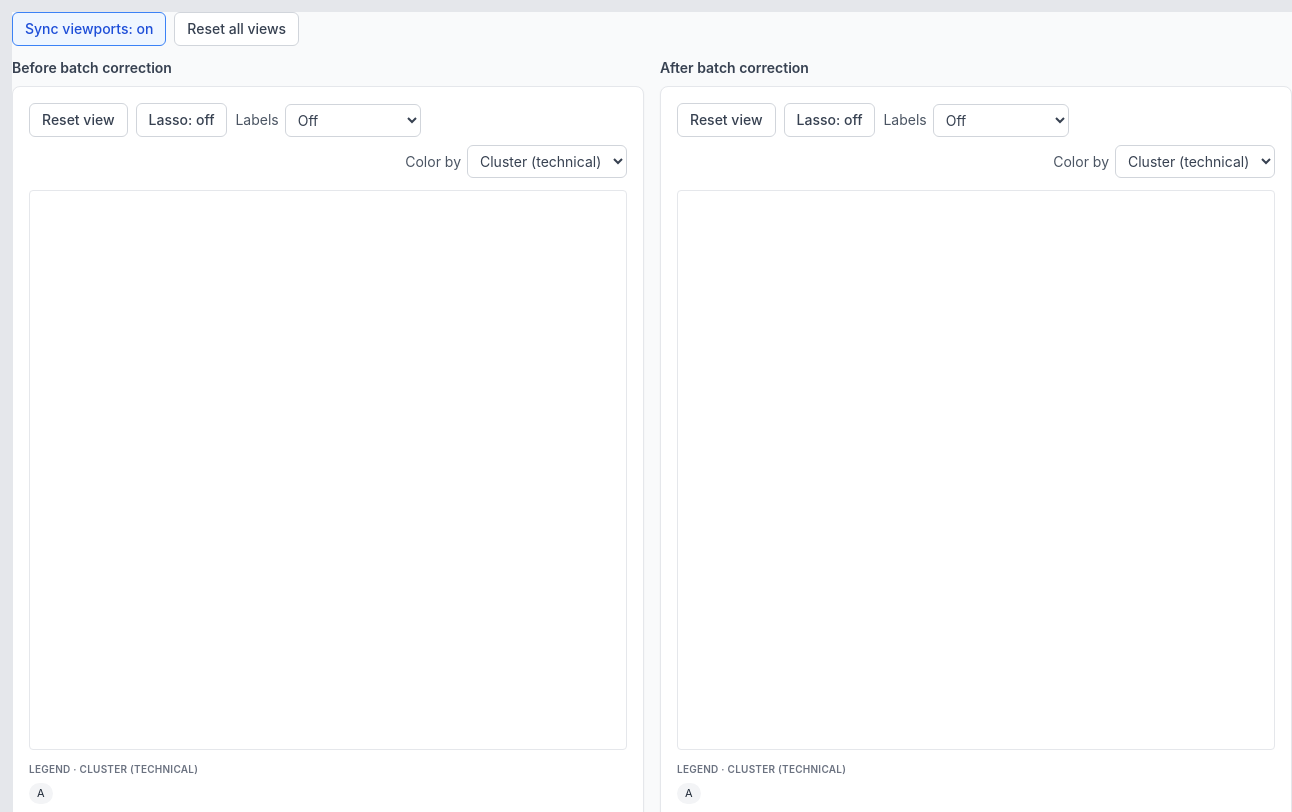
Test case: EmbeddingComparison › toggling sync changes the button label
Click the button "Sync viewports: on" at [89, 29], box [12,12,166,46]
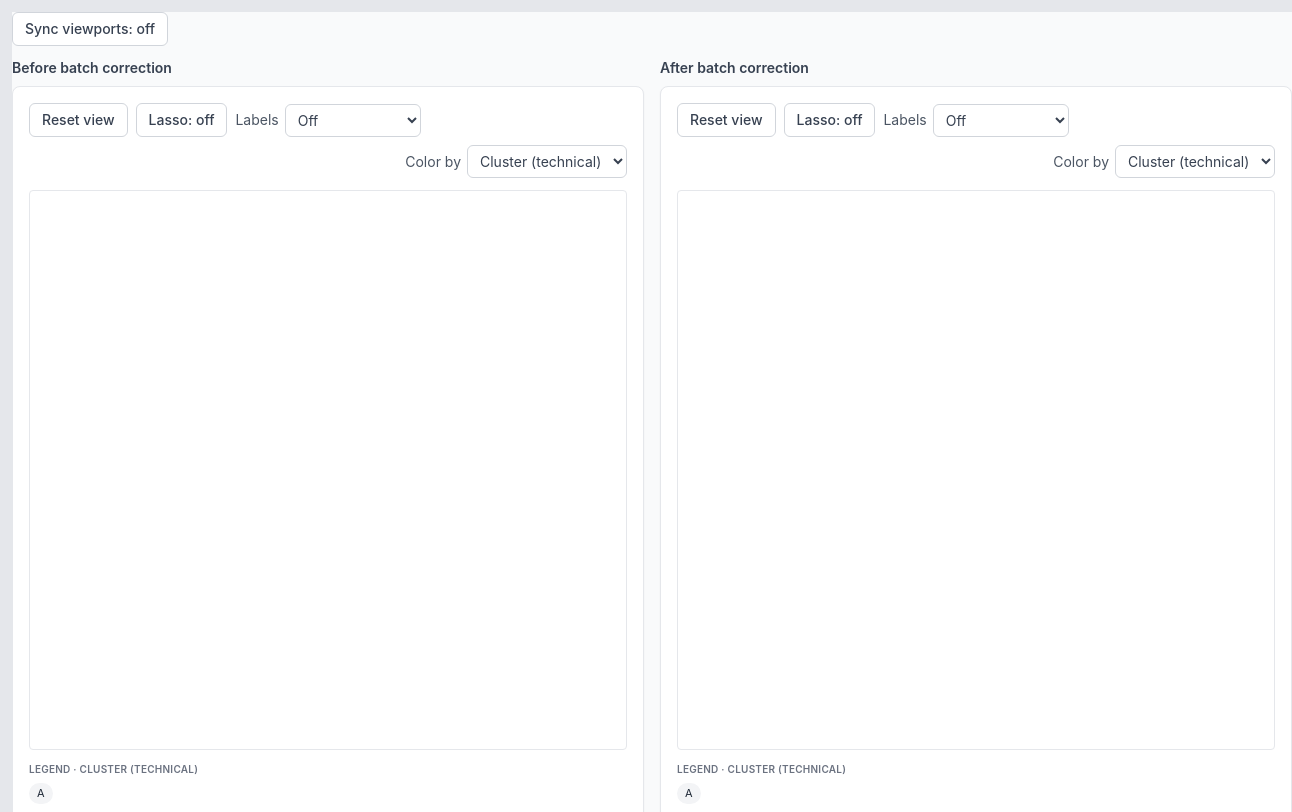
Expected: the button "Sync viewports: off" is shown
Click the button "Sync viewports: off" at [90, 29], box [12,12,168,46]
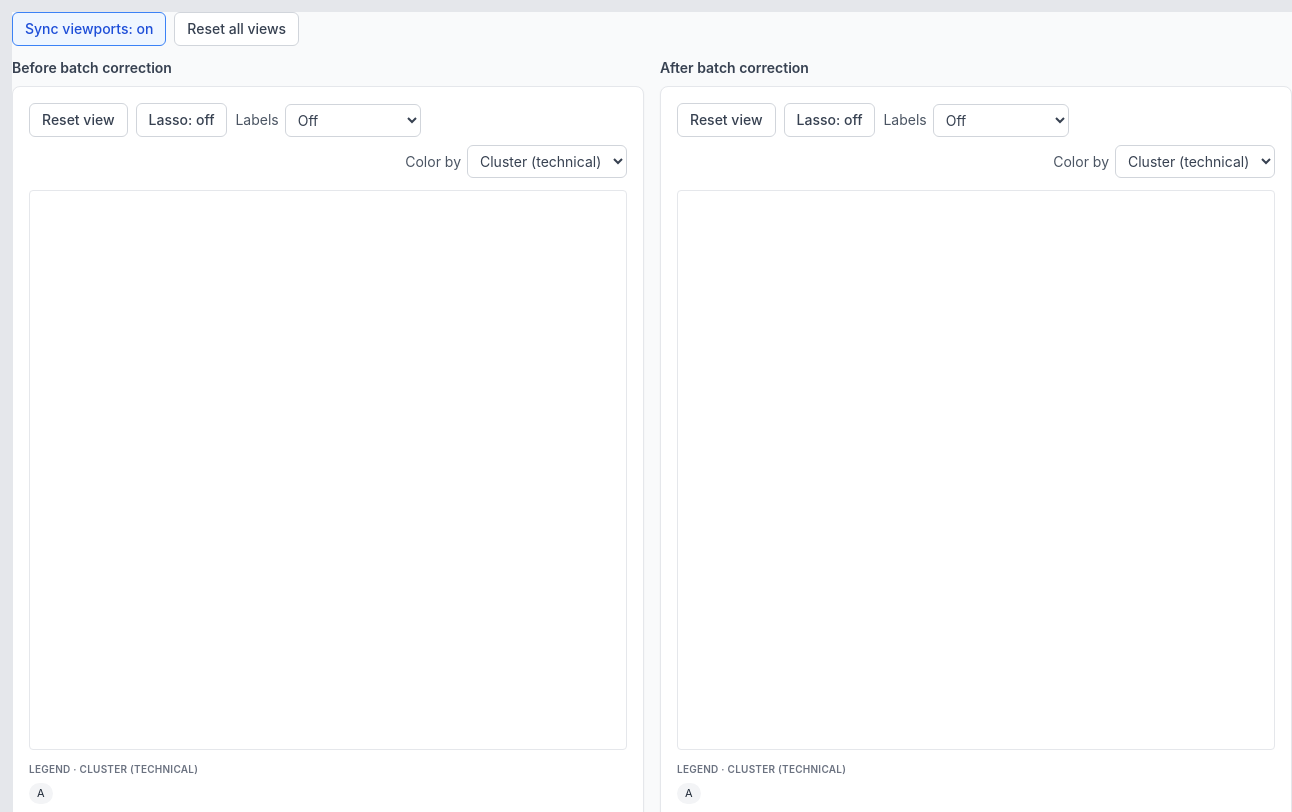
Expected: the button "Sync viewports: on" is shown, [12,12,166,46]
